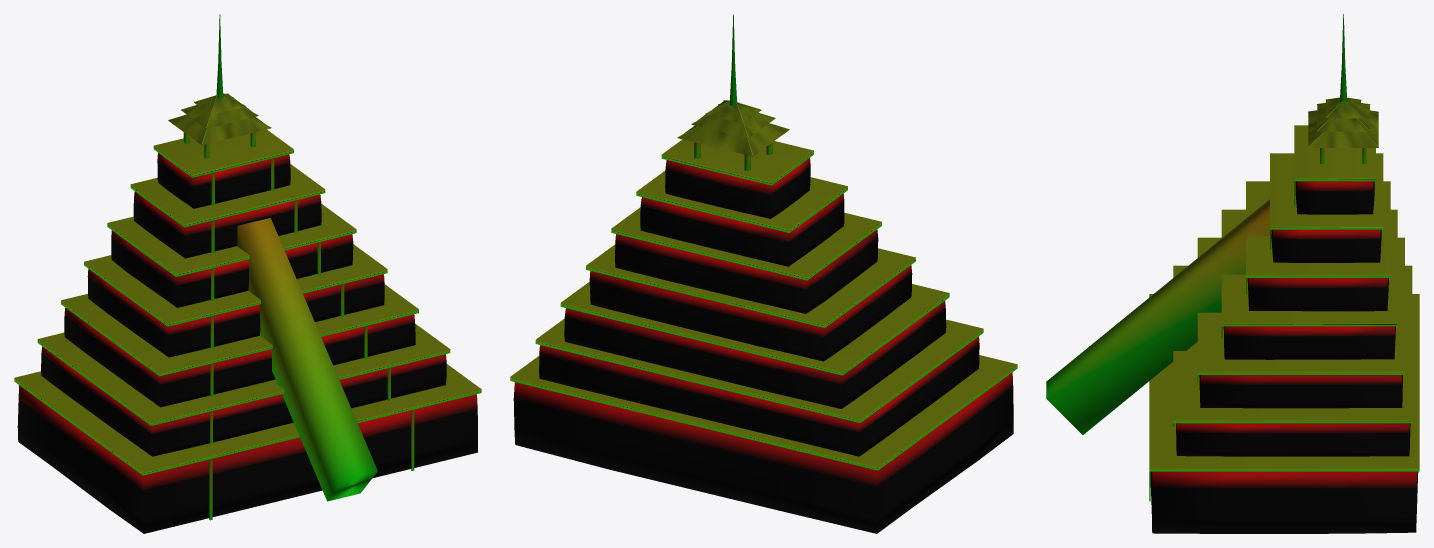
The model's file is ashcrown_silhouette.glb.
3 renders of one model, left to right at view 1: azimuth 30°, elevation 25°; view 2: azimuth 150°, elevation 25°; view 3: azimuth 270°, elevation 25°, orthographic. The views are drawn at different scales.
Parts seen in each view (by area): view 1: ashcrown_silhouette; view 2: ashcrown_silhouette; view 3: ashcrown_silhouette.
Part boxes in pixels (box(x1,y1,x2,y2)): ashcrown_silhouette: box(14, 14, 481, 533); ashcrown_silhouette: box(510, 14, 1017, 533); ashcrown_silhouette: box(1046, 14, 1419, 533).
Size of what is drawn, in the model's own units: 58.43 by 68.26 by 53.06.
